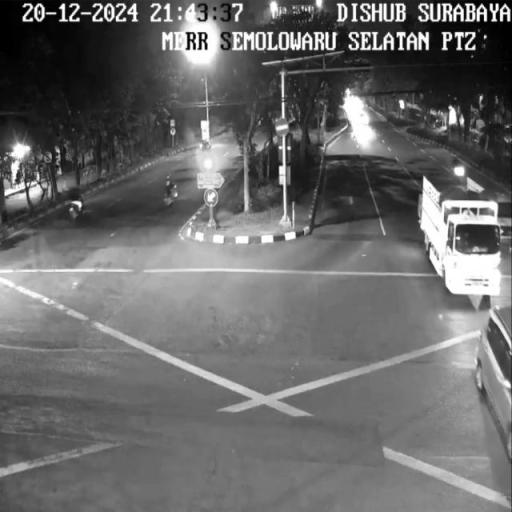car: (469, 292, 512, 459)
motorcycle: (61, 183, 87, 226), (163, 168, 184, 212)
truck: (416, 155, 510, 307)
